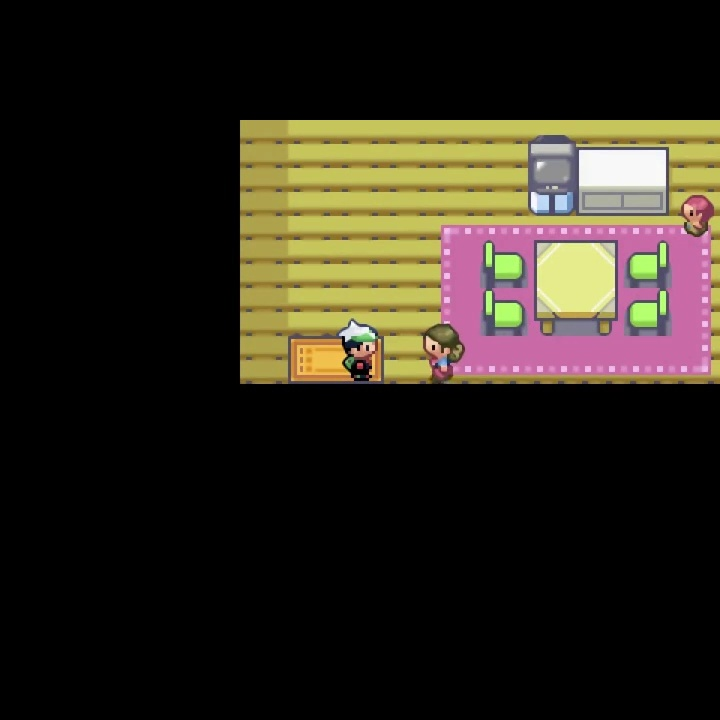exit: (285, 333, 387, 445)
npc: (335, 318, 380, 382), (421, 321, 466, 383), (679, 193, 717, 240)
